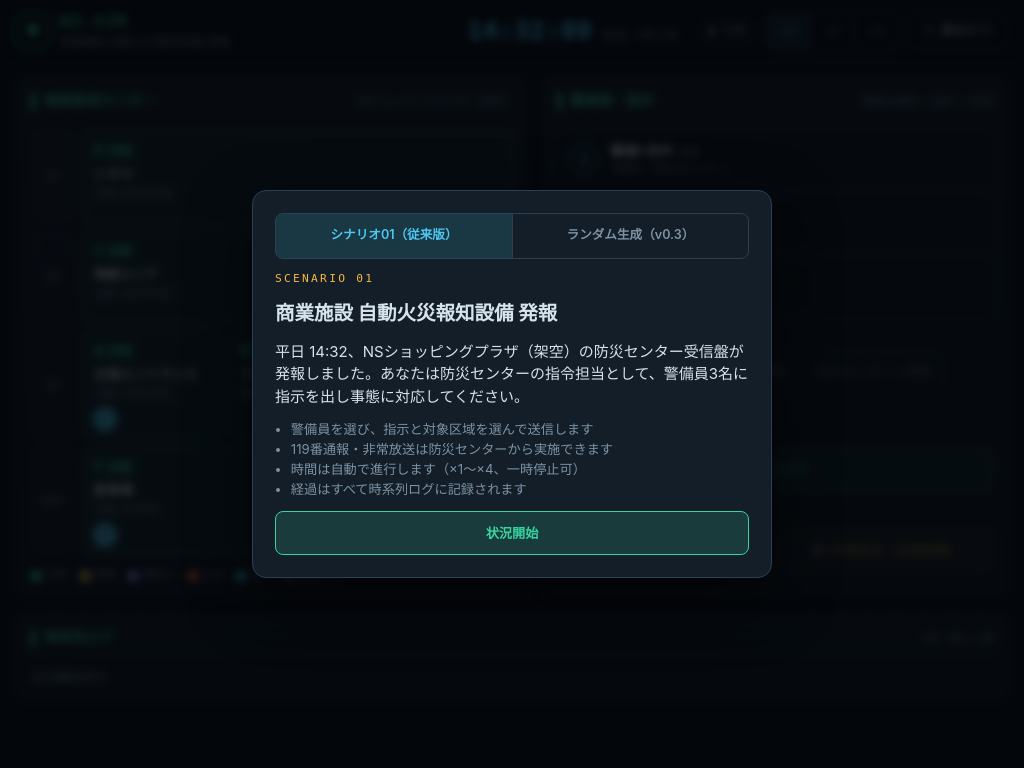
App › ブリーフィングから状況を開始し、指示とログが機能する
This screenshot has width=1024, height=768.
Expected: the text with test id "clock" reads "14:32:00", [468, 17, 593, 45]
Click the button "状況開始".
click(512, 533)  # box [275, 511, 749, 555]
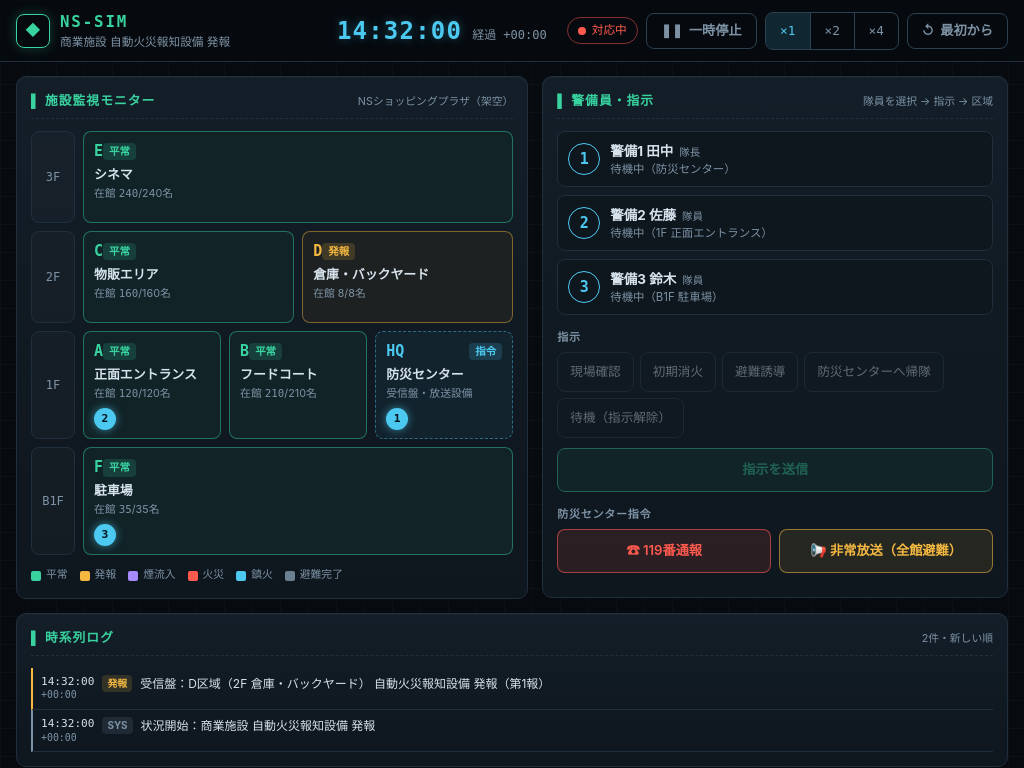
Expected: the dialog is gone
Expected: the text "受信盤：D区域（2F 倉庫・バックヤード） 自動火災報知設備 発報（第1報）" is shown, [140, 676, 550, 691]
Click the radio button labelled "警備1 田中".
click(584, 159)  # box [557, 131, 993, 187]
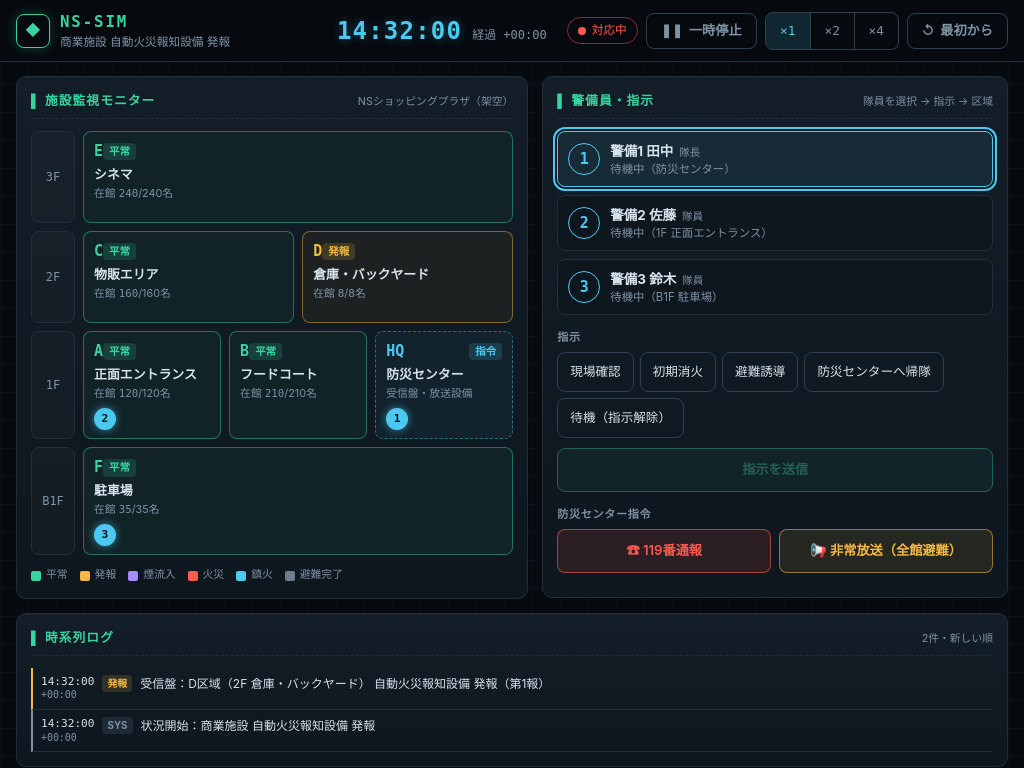
Click the button "現場確認".
click(596, 372)  # box [557, 352, 634, 392]
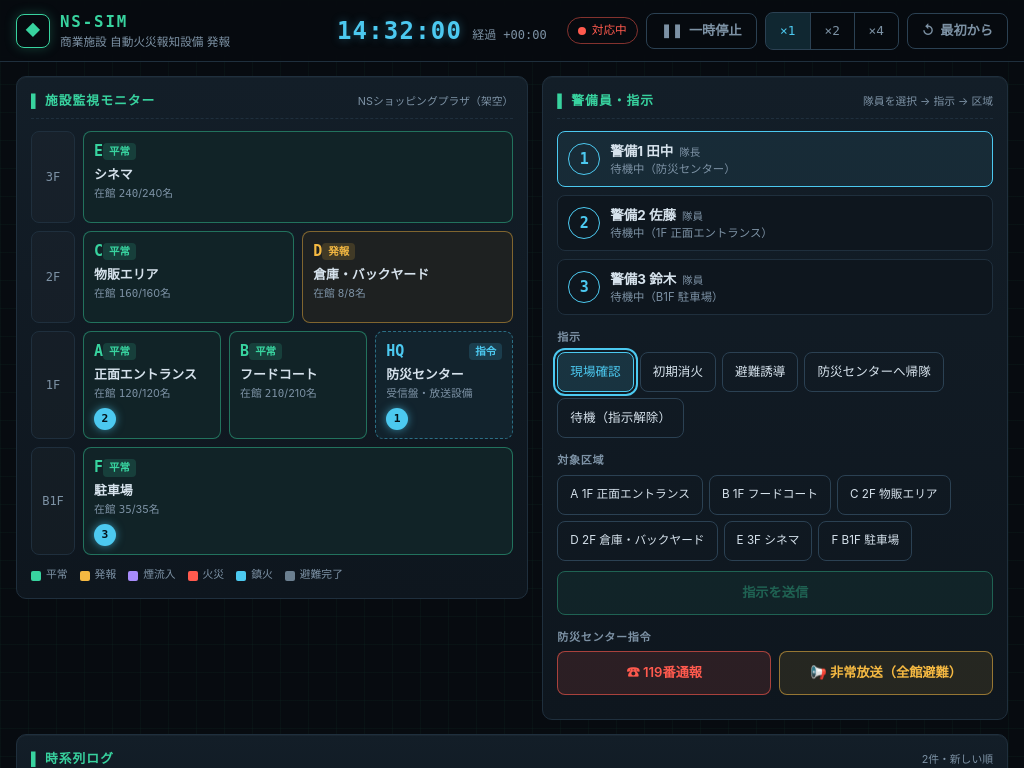
Click the button "D 2F 倉庫・バックヤード".
click(637, 541)  # box [557, 521, 718, 561]
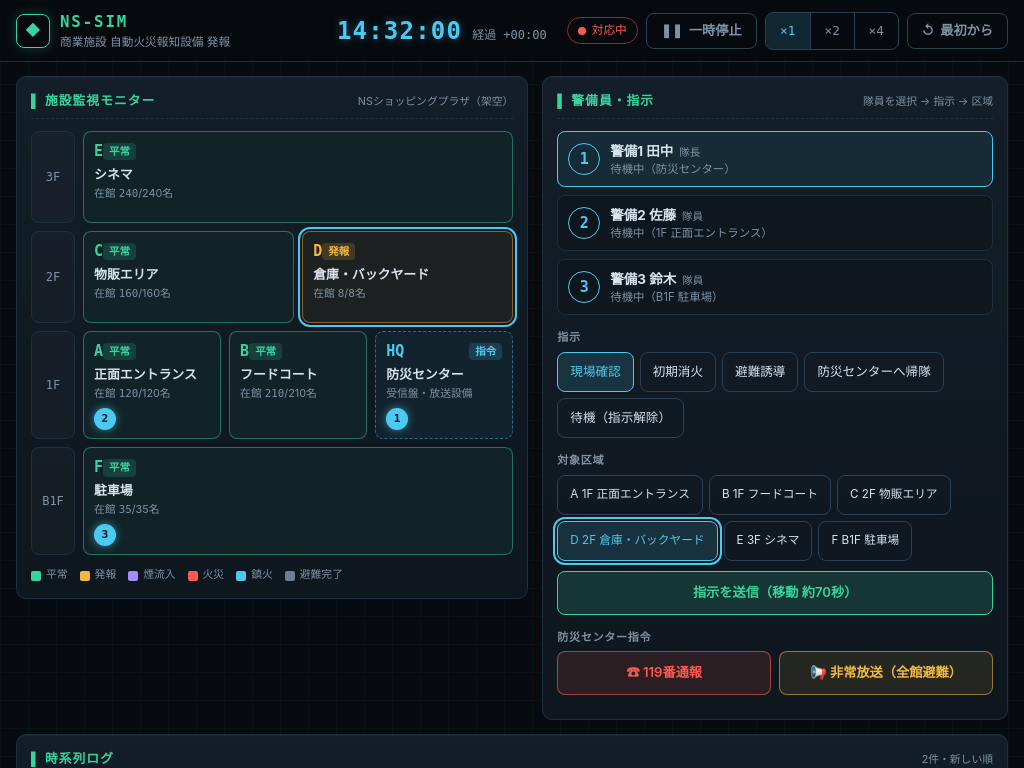
Click the button "指示を送信（移動 約70秒）".
click(775, 593)  # box [557, 571, 993, 615]
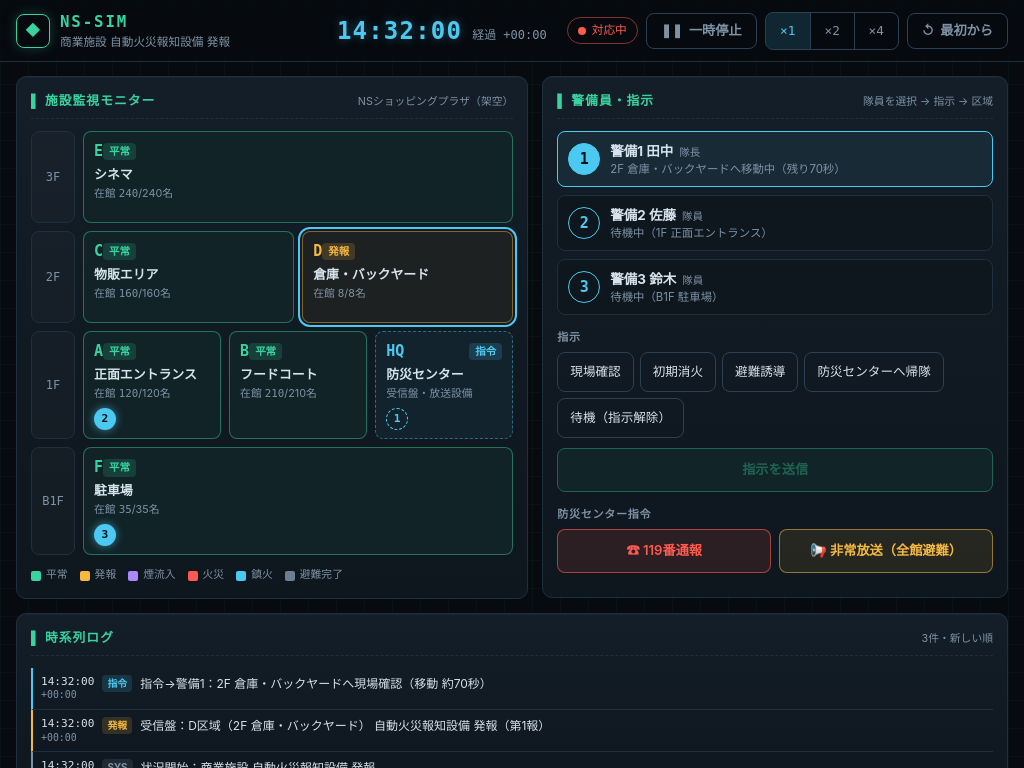
Expected: the text "指令→警備1：2F 倉庫・バックヤードへ現場確認（移動 約70秒）" is shown, [140, 676, 492, 691]
Click the button "☎ 119番通報".
click(664, 551)  # box [557, 529, 771, 573]
Wait 3000 ms
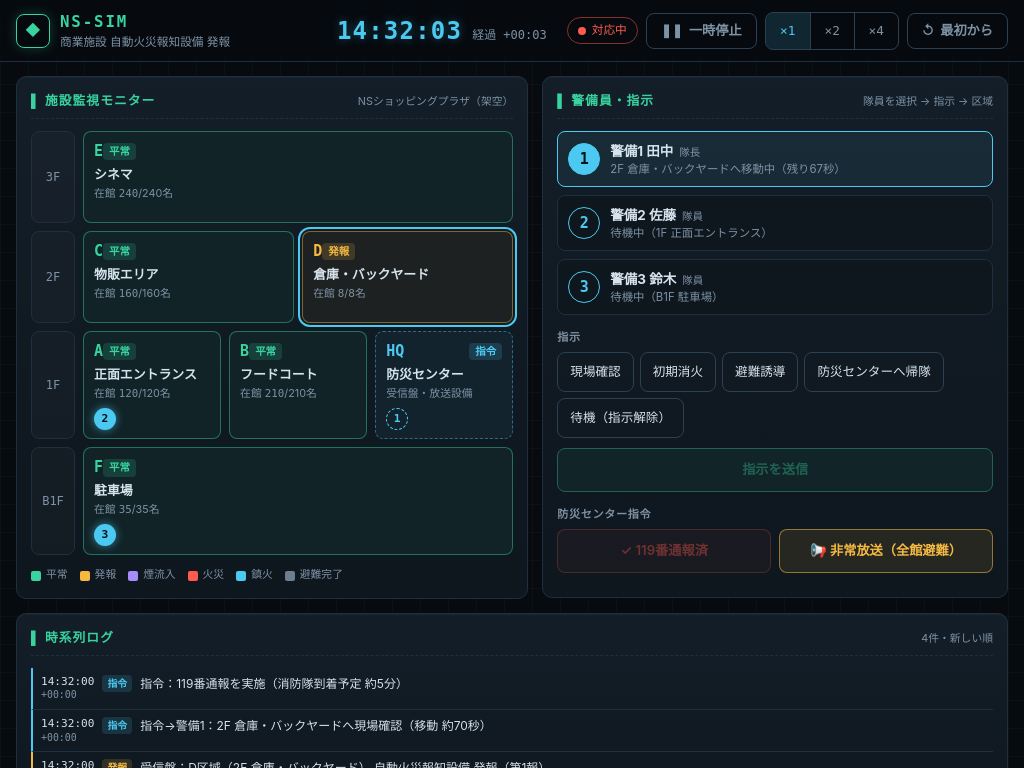
Expected: the text with test id "clock" does not show "14:32:00", [337, 13, 462, 49]
Expected: the button "✓ 119番通報済" is disabled, [557, 529, 771, 573]
